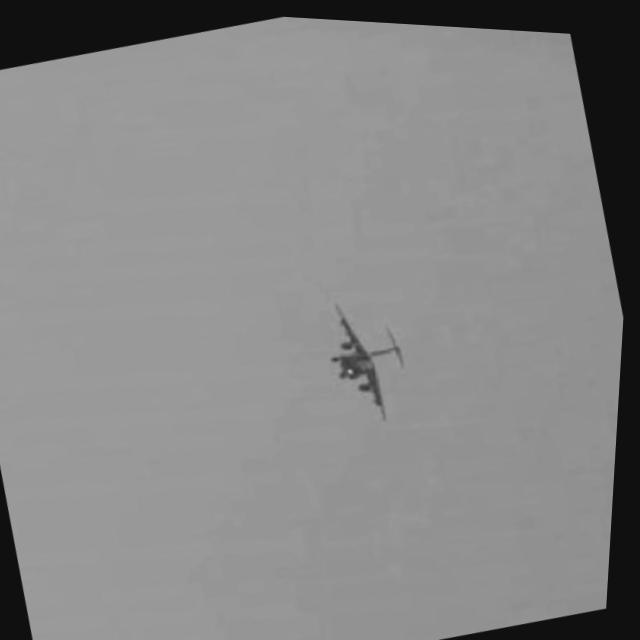aeroplane: (295, 269, 441, 443)
